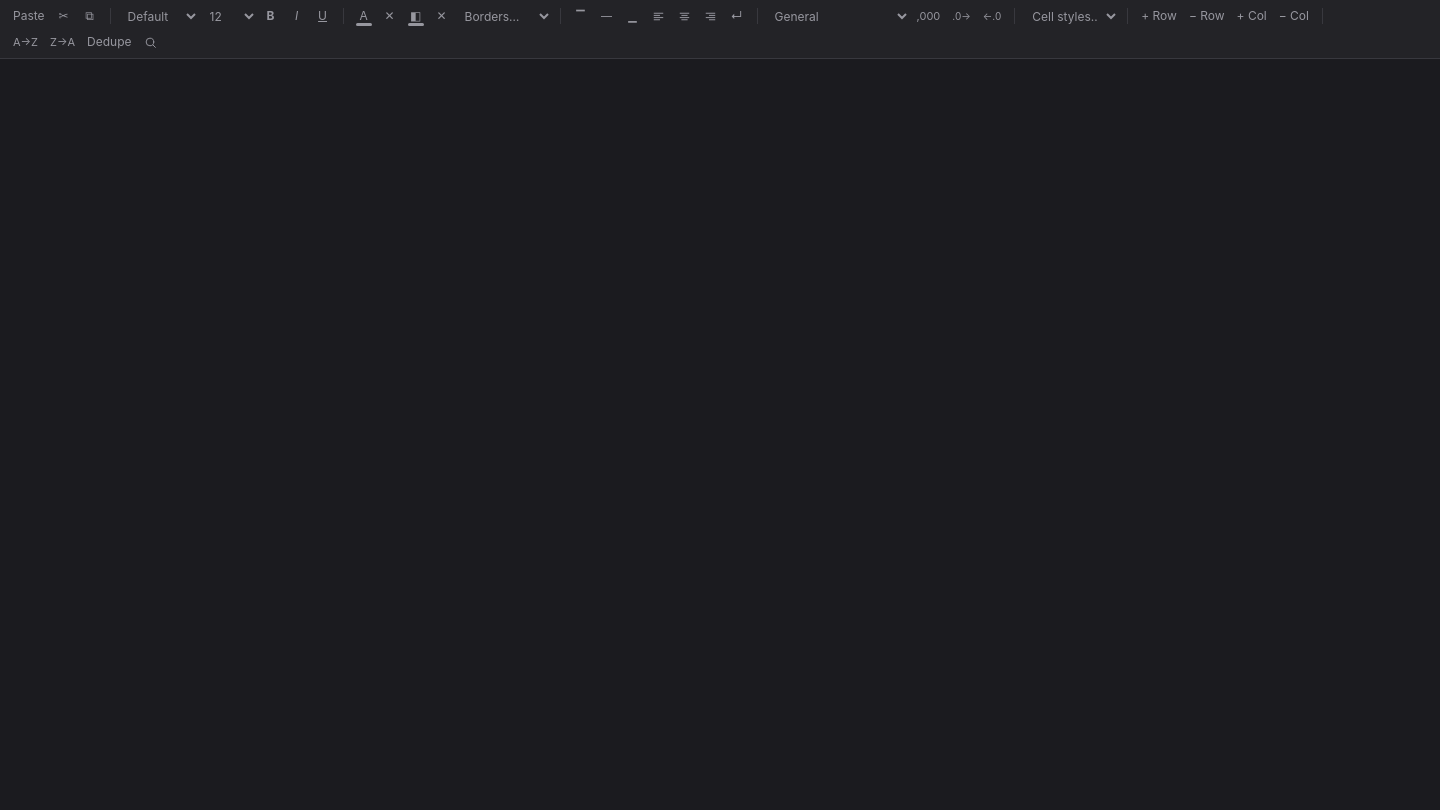
SpreadsheetToolbar — commands the merge dropped › opens find & replace as a disclosure and replaces through the session
The image size is (1440, 810).
Step 1. Click the button named "Find & replace" → (150, 42), box top-left (138, 30), bottom-right (162, 54)
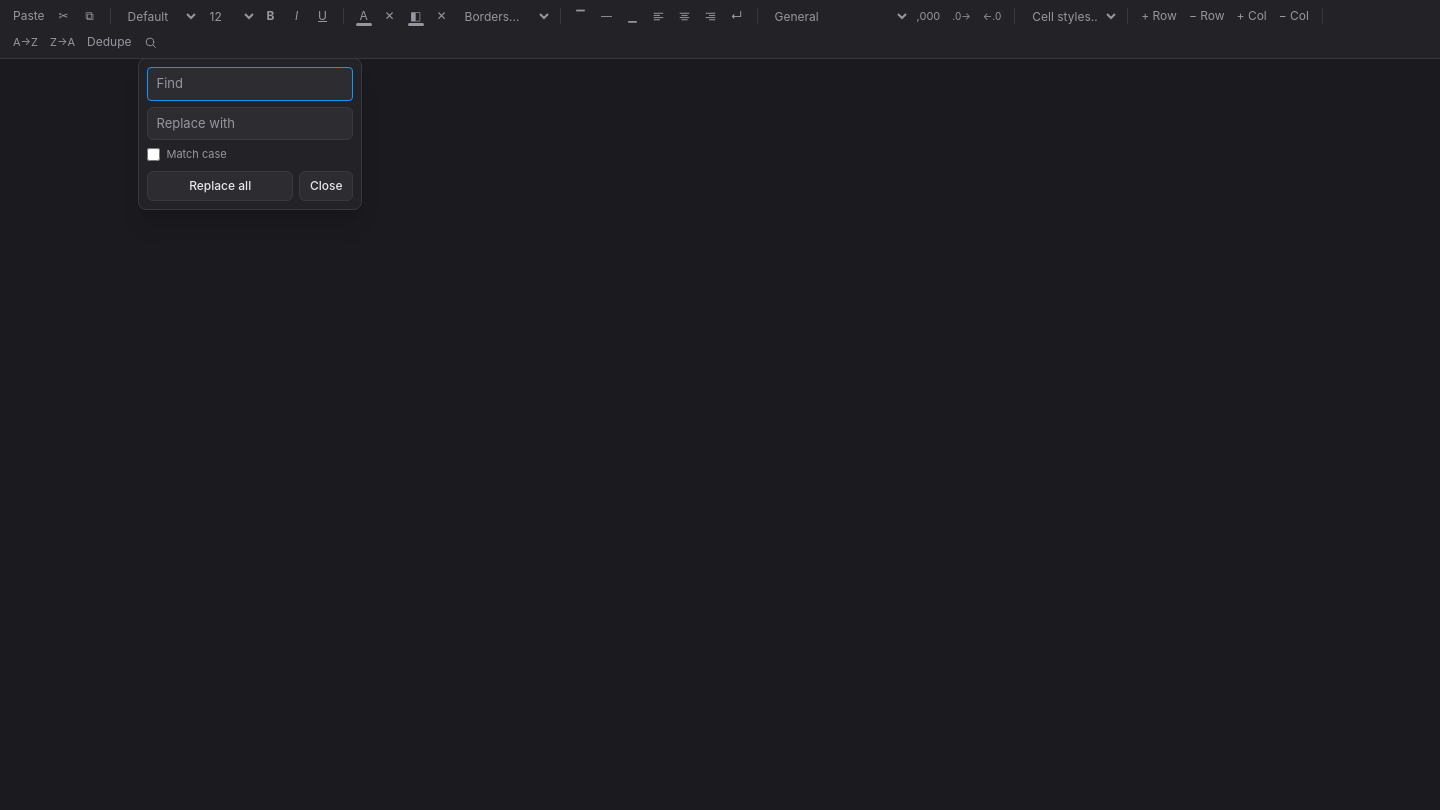
Expected: the dialog named "Find & replace" is shown, top-left (138, 58), bottom-right (362, 210)
Step 2. Type "a" into the field labelled "Find" → (250, 84), box top-left (148, 67), bottom-right (354, 100)
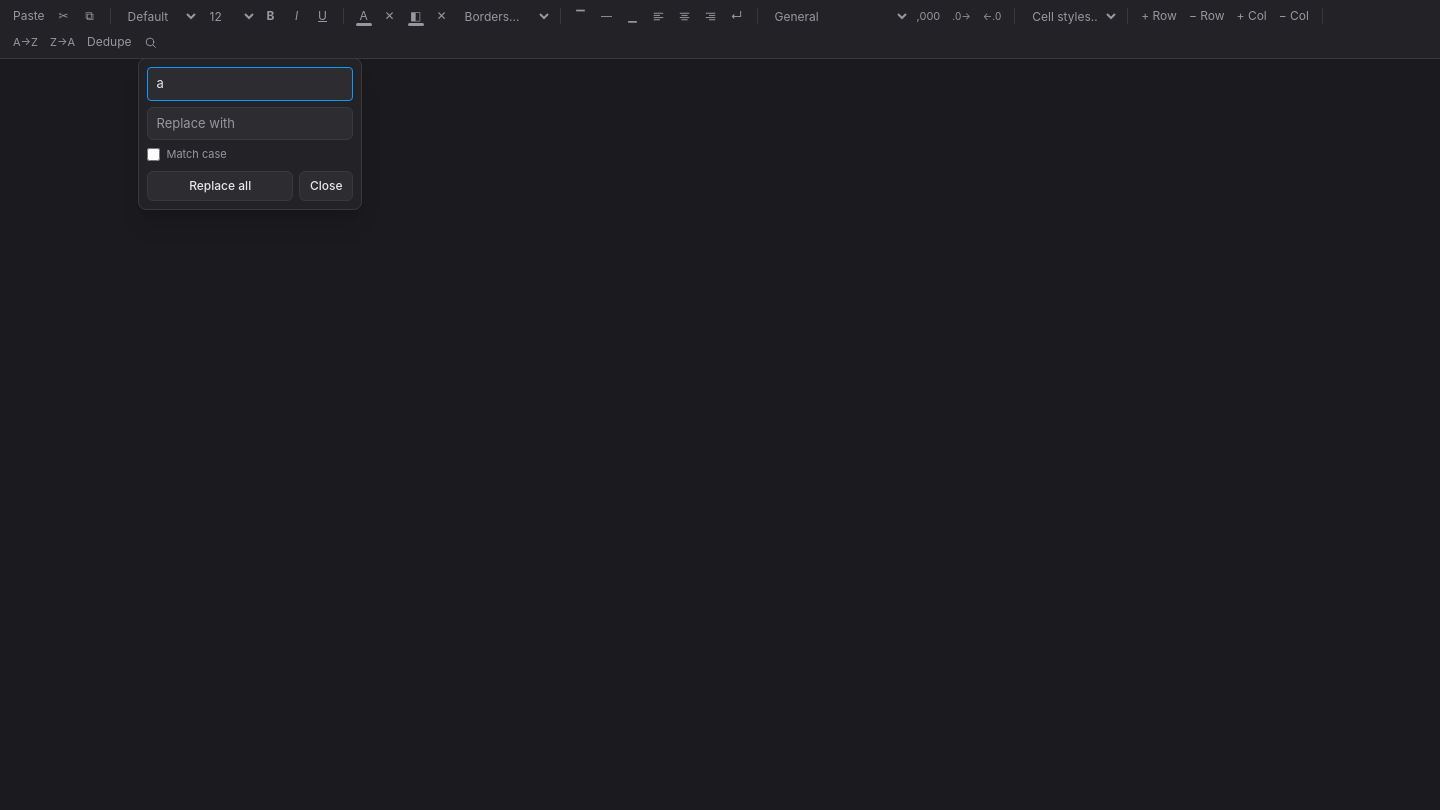
Step 3. Type "b" into the field labelled "Replace with" → (250, 123), box top-left (148, 106), bottom-right (354, 140)
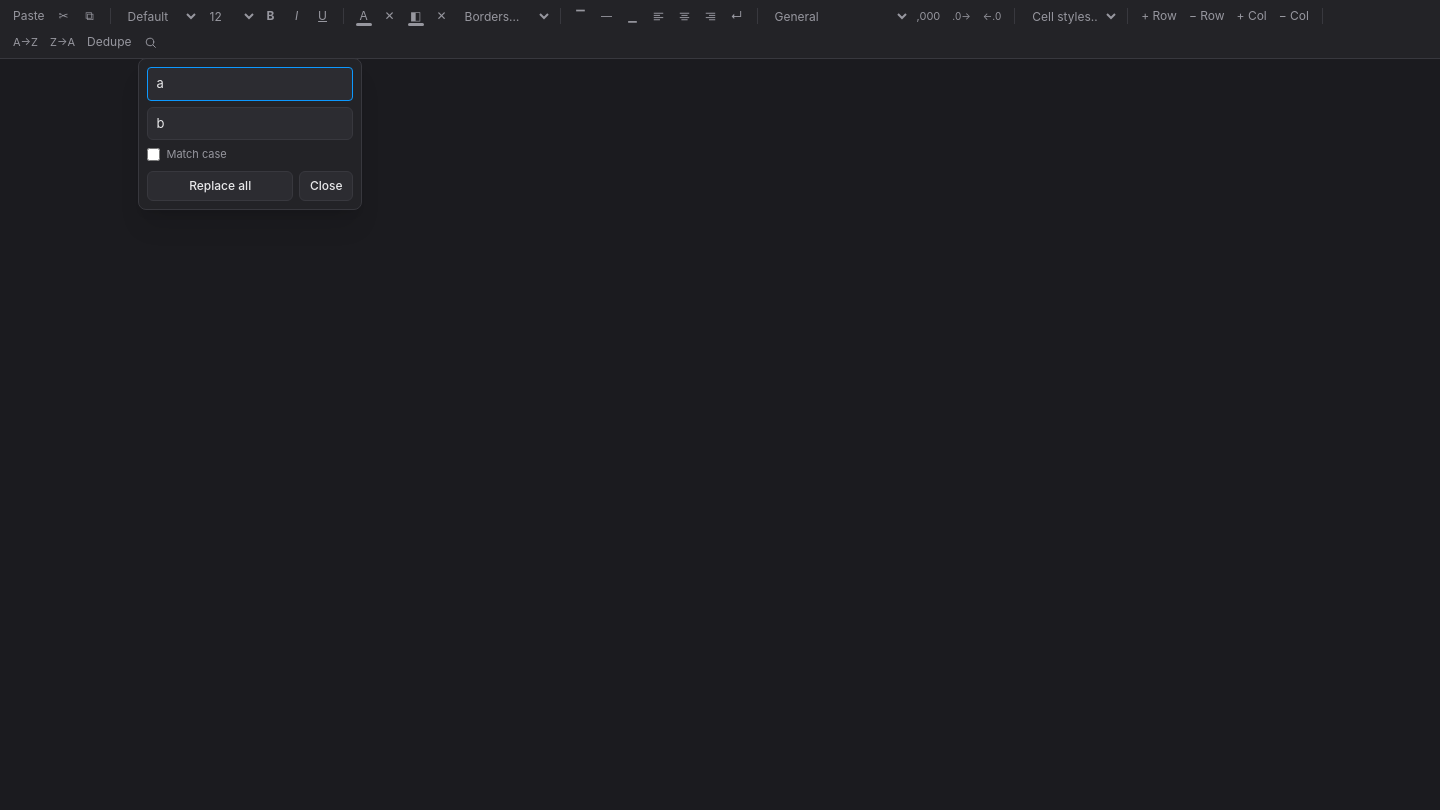
Step 4. Click the button "Replace all" → (220, 186), box top-left (148, 170), bottom-right (293, 200)
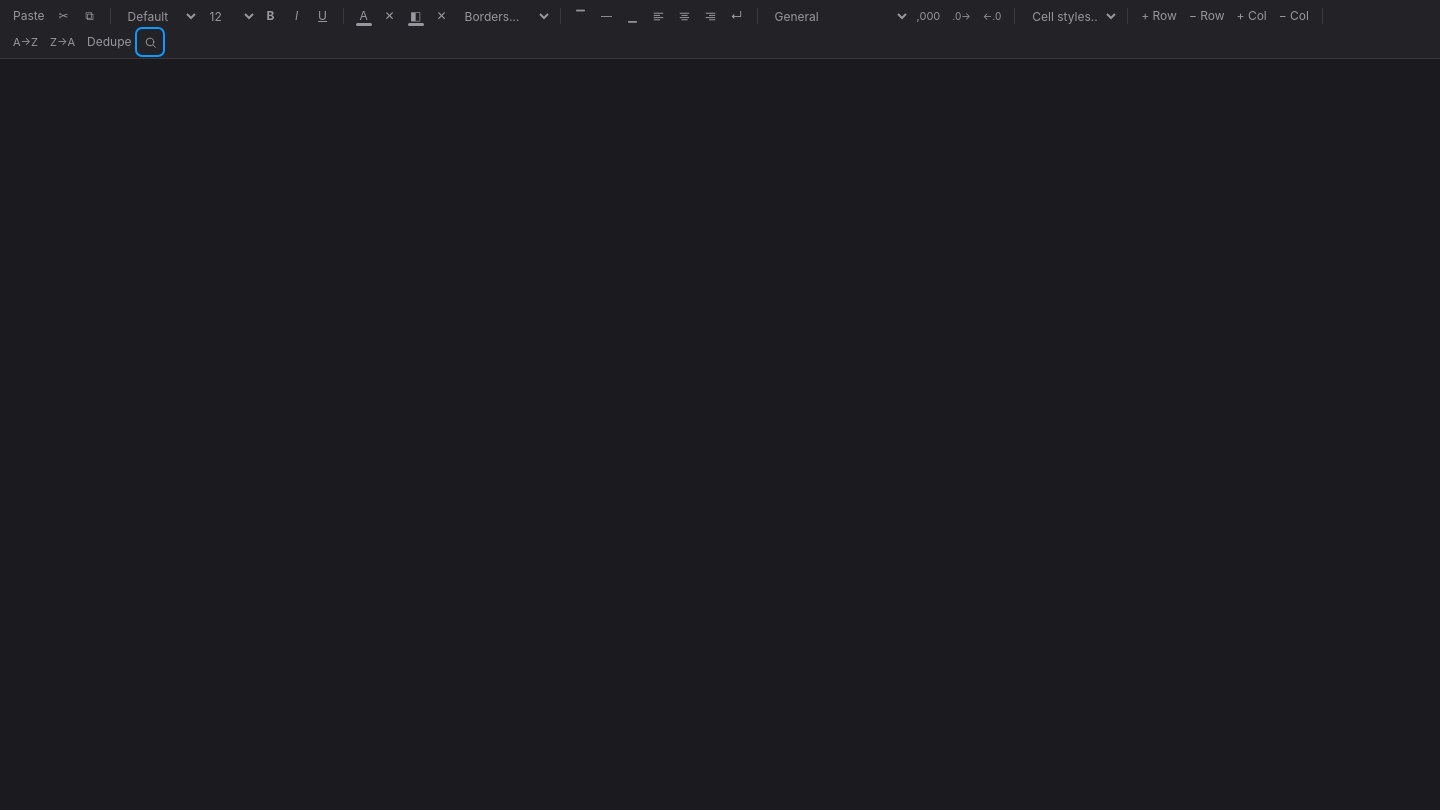
Expected: the dialog is gone
